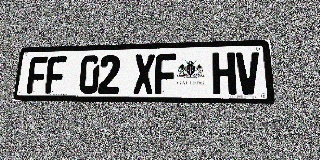0: (78, 55, 100, 94)
2: (98, 55, 120, 94)
F: (155, 54, 176, 94), (45, 56, 67, 93), (26, 57, 48, 93)
H: (212, 52, 236, 94)
V: (236, 52, 261, 94)
X: (133, 54, 155, 94)
